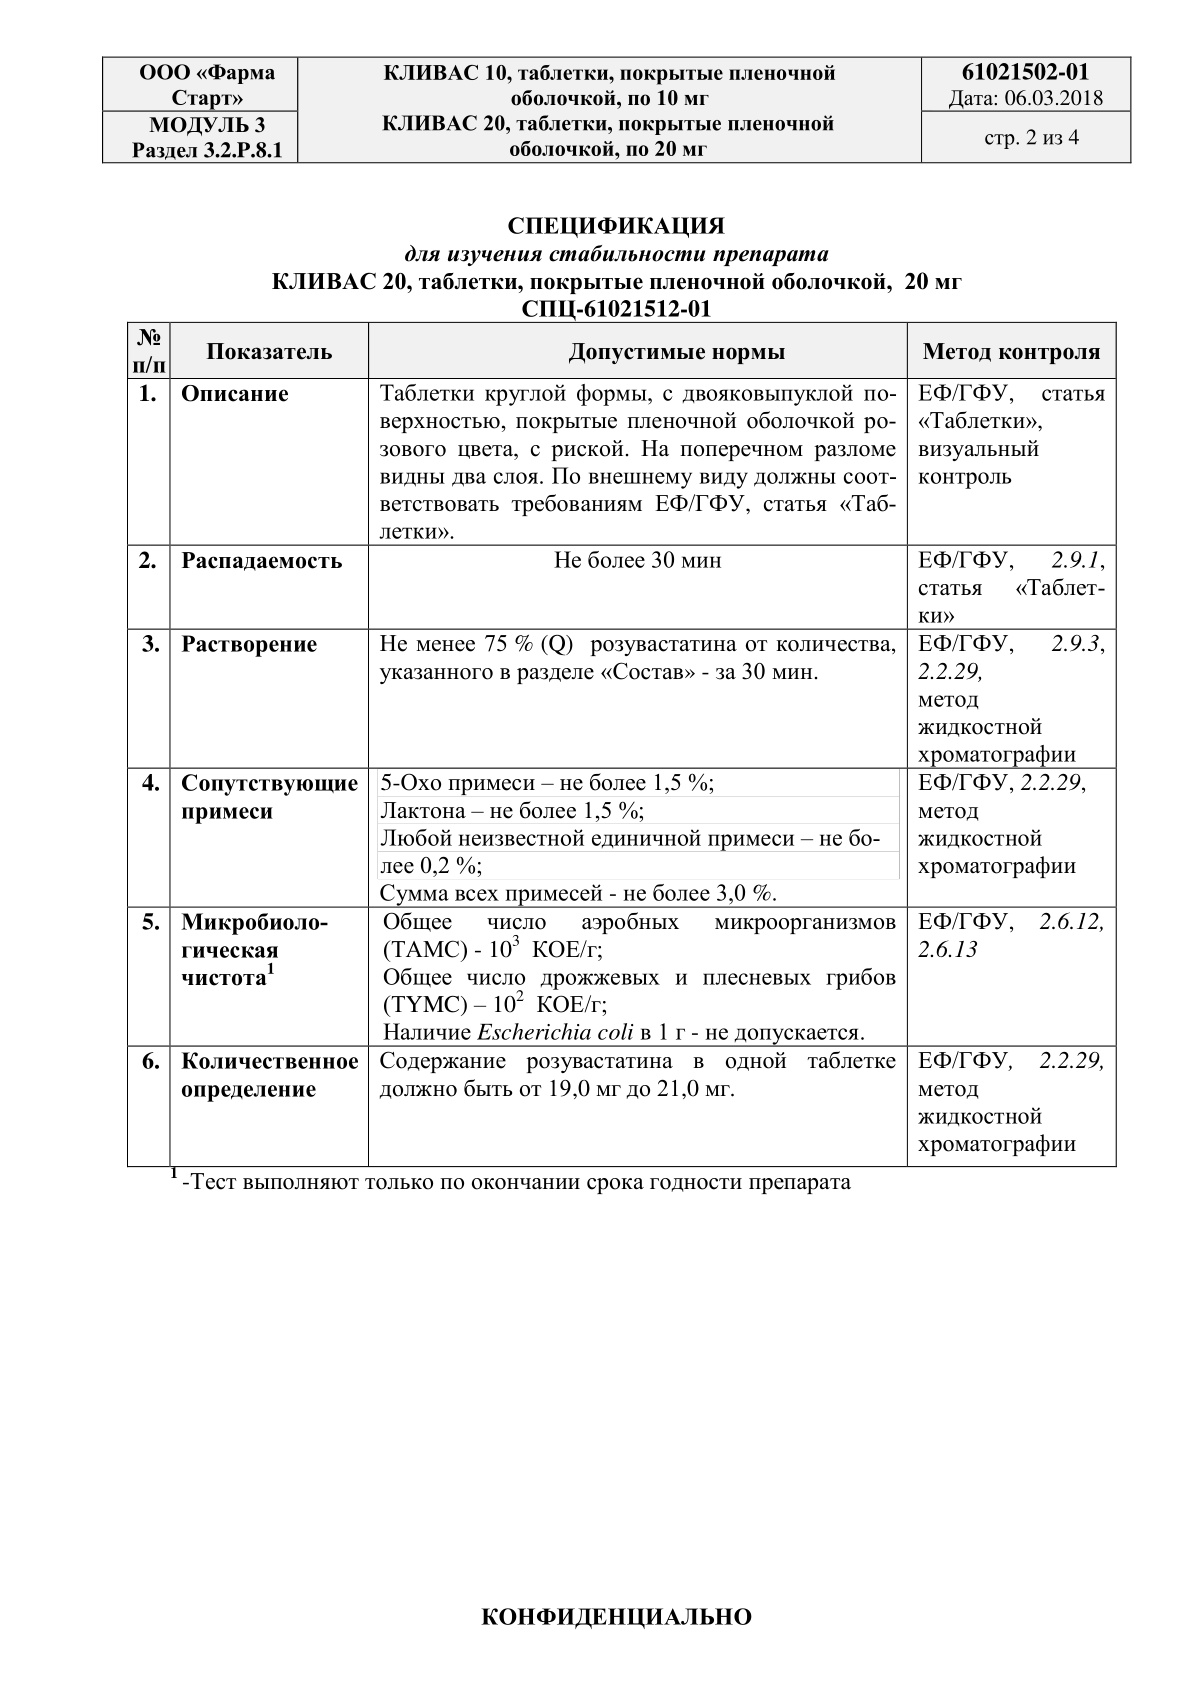full_lined: (125, 321, 1118, 1168)
merged_cells: (101, 55, 1132, 164)
